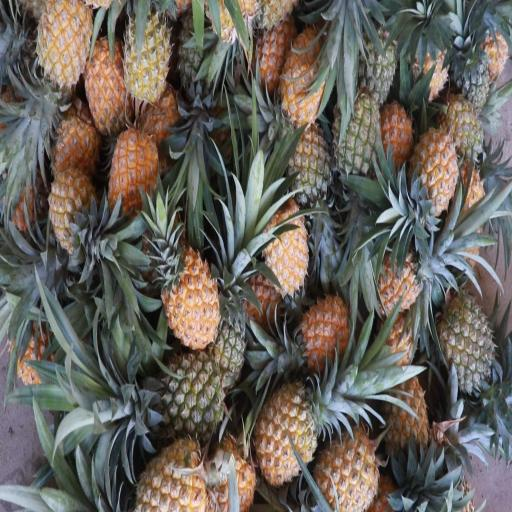------------------------------: (277, 103, 332, 208)
Pineapple - v8 v1: (246, 370, 325, 492), (306, 391, 381, 512), (117, 421, 208, 512), (100, 116, 162, 239), (373, 344, 431, 468), (156, 245, 218, 349), (356, 231, 419, 327), (115, 0, 170, 107), (404, 111, 461, 214), (252, 173, 310, 274), (194, 415, 254, 512), (273, 16, 327, 122), (75, 8, 129, 112), (431, 76, 490, 169), (44, 160, 94, 261), (249, 4, 302, 92), (30, 1, 88, 63)
